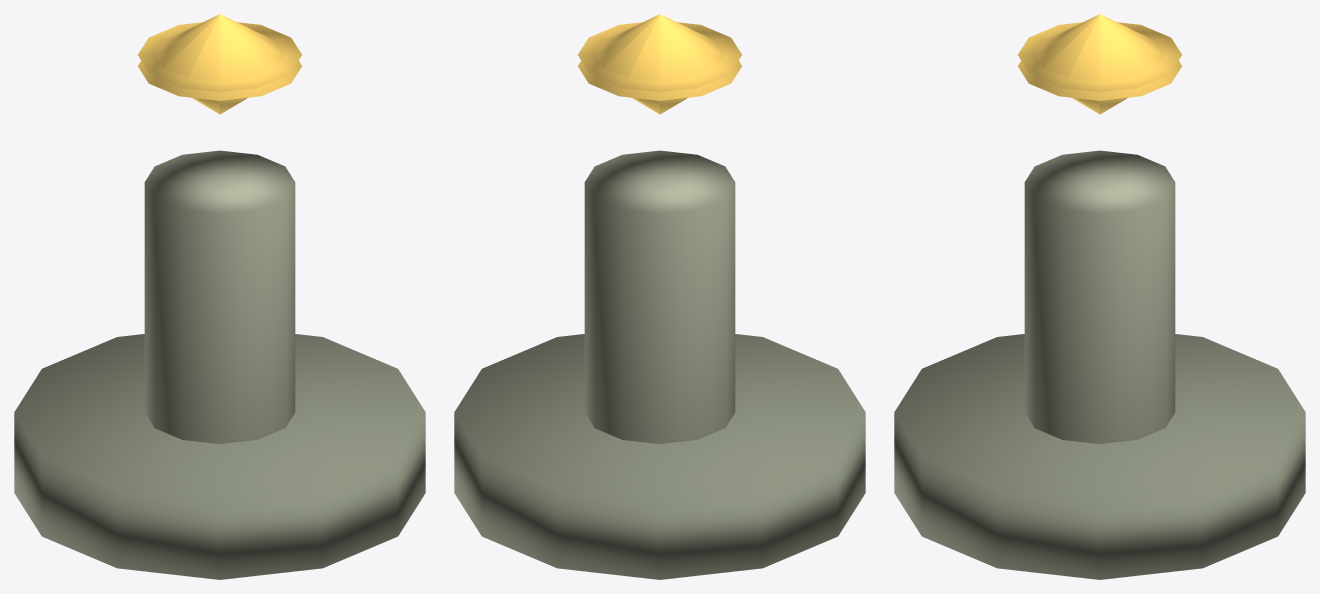
The model's file is resonance_beacon.glb.
3 views of the same model, side by side, from view 1: azimuth 30°, elevation 25°; view 2: azimuth 150°, elevation 25°; view 3: azimuth 270°, elevation 25° (orthographic).
Parts seen in each view (by area): view 1: base, pedestal, crystal_upper, crystal_lower; view 2: base, pedestal, crystal_upper, crystal_lower; view 3: base, pedestal, crystal_upper, crystal_lower.
Boxes of the visible parts, bbox=[...] form: base: bbox=[14, 334, 425, 579]; pedestal: bbox=[144, 150, 295, 443]; crystal_upper: bbox=[138, 14, 301, 100]; crystal_lower: bbox=[138, 22, 301, 114]; base: bbox=[454, 334, 865, 579]; pedestal: bbox=[584, 150, 735, 443]; crystal_upper: bbox=[578, 14, 741, 100]; crystal_lower: bbox=[578, 22, 741, 114]; base: bbox=[894, 334, 1305, 579]; pedestal: bbox=[1024, 150, 1175, 443]; crystal_upper: bbox=[1018, 14, 1181, 100]; crystal_lower: bbox=[1018, 22, 1181, 114].
Bounding box in the file's own units: 1.2 × 1.54 × 1.2.
